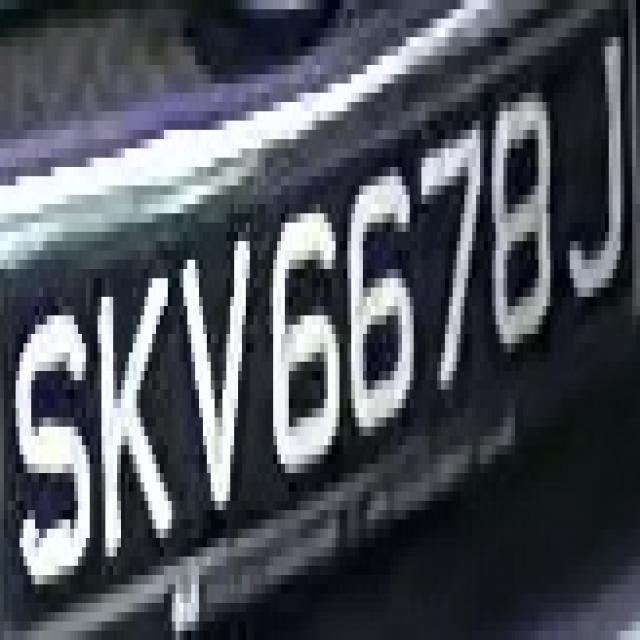6: (348, 130, 418, 464), (266, 185, 340, 482)
7: (406, 130, 492, 399)
8: (484, 74, 562, 408)
J: (554, 9, 628, 306)
K: (90, 241, 180, 547)
S: (8, 288, 98, 584)
V: (180, 222, 258, 528)
